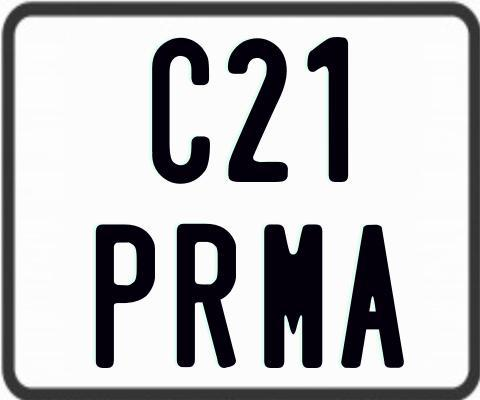1: (304, 34, 345, 179)
2: (226, 37, 292, 185)
A: (338, 224, 402, 367)
C: (151, 35, 215, 181)
M: (263, 224, 324, 368)
P: (96, 222, 158, 367)
R: (177, 224, 241, 369)
